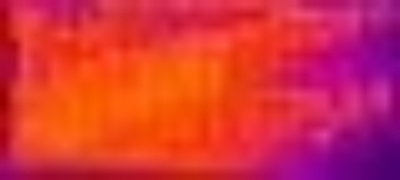Shadow: (259, 107, 400, 179), (298, 24, 400, 84)
